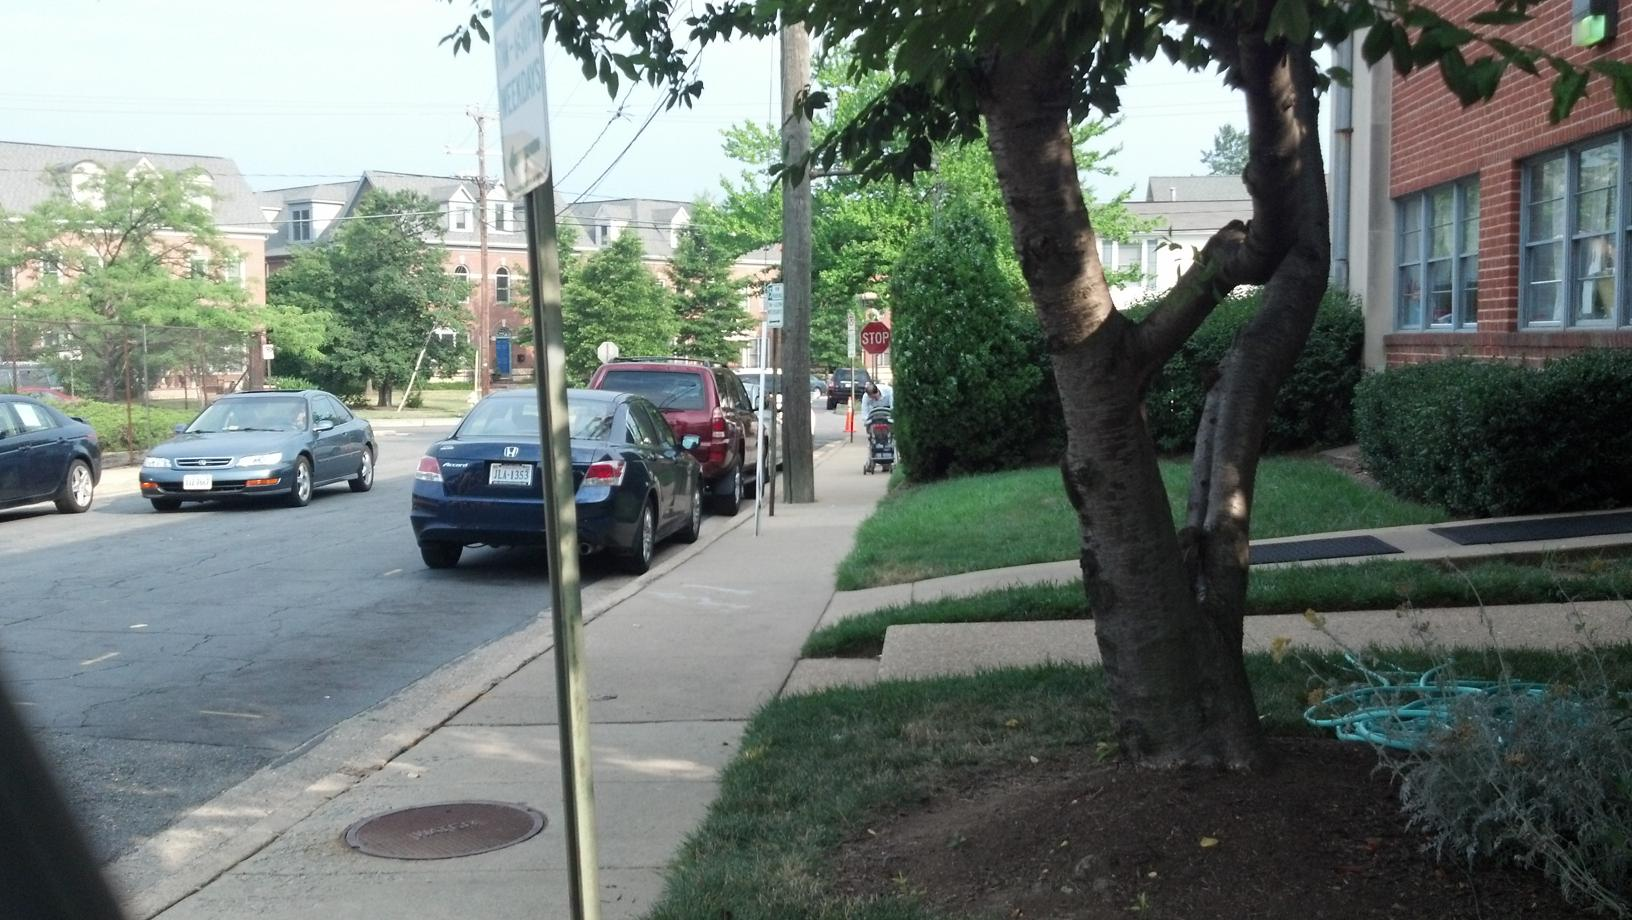car: (423, 385, 710, 558), (136, 379, 389, 519)
stop: (857, 312, 899, 360)
